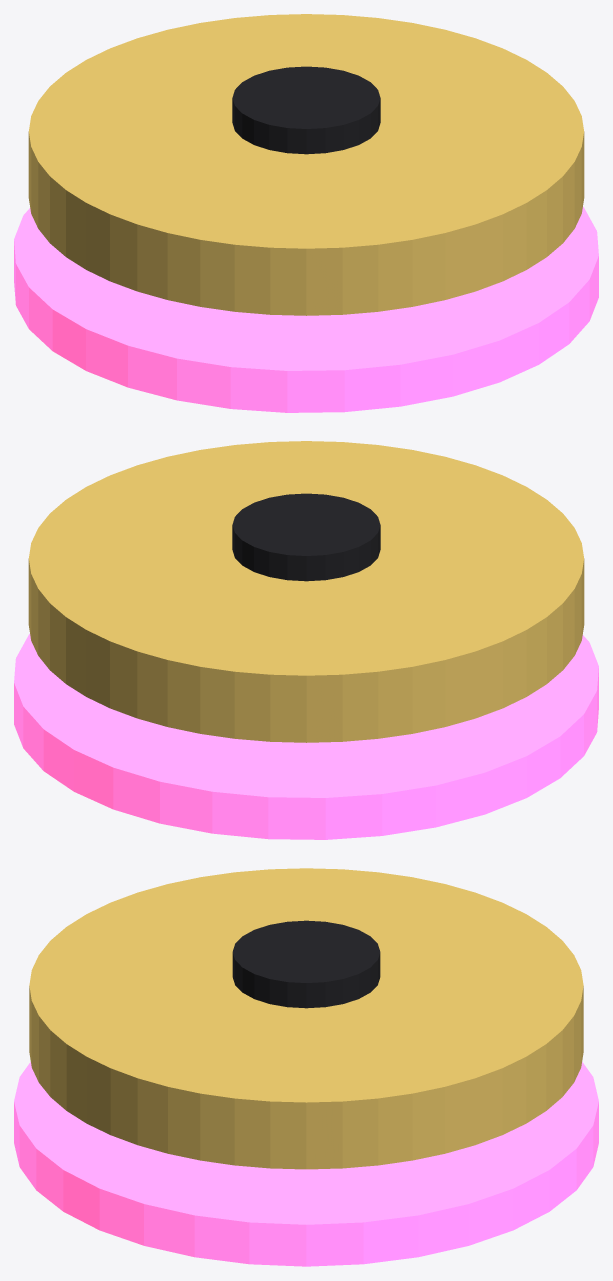
The model's file is music_gold_record.glb.
The picture shows the model from 3 angles, top to bottom: view 1: azimuth 30°, elevation 25°; view 2: azimuth 150°, elevation 25°; view 3: azimuth 270°, elevation 25°; orthographic projection.
Visible parts, largest first — view 1: 07_20_Popular_Music_Gold_Record_part_01, 07_20_Popular_Music_Gold_Record_ROOT_base, 07_20_Popular_Music_Gold_Record_part_02; view 2: 07_20_Popular_Music_Gold_Record_part_01, 07_20_Popular_Music_Gold_Record_ROOT_base, 07_20_Popular_Music_Gold_Record_part_02; view 3: 07_20_Popular_Music_Gold_Record_part_01, 07_20_Popular_Music_Gold_Record_ROOT_base, 07_20_Popular_Music_Gold_Record_part_02.
Part boxes in pixels (left/top/right/bottom): 07_20_Popular_Music_Gold_Record_part_01: left=28, top=14, right=584, bottom=315; 07_20_Popular_Music_Gold_Record_ROOT_base: left=14, top=207, right=598, bottom=412; 07_20_Popular_Music_Gold_Record_part_02: left=232, top=66, right=380, bottom=154; 07_20_Popular_Music_Gold_Record_part_01: left=28, top=441, right=584, bottom=742; 07_20_Popular_Music_Gold_Record_ROOT_base: left=14, top=634, right=598, bottom=839; 07_20_Popular_Music_Gold_Record_part_02: left=232, top=493, right=380, bottom=581; 07_20_Popular_Music_Gold_Record_part_01: left=29, top=868, right=583, bottom=1169; 07_20_Popular_Music_Gold_Record_ROOT_base: left=14, top=1062, right=598, bottom=1266; 07_20_Popular_Music_Gold_Record_part_02: left=232, top=920, right=380, bottom=1008.
Size of the model in its own units: 0.76 by 0.274 by 0.76.
